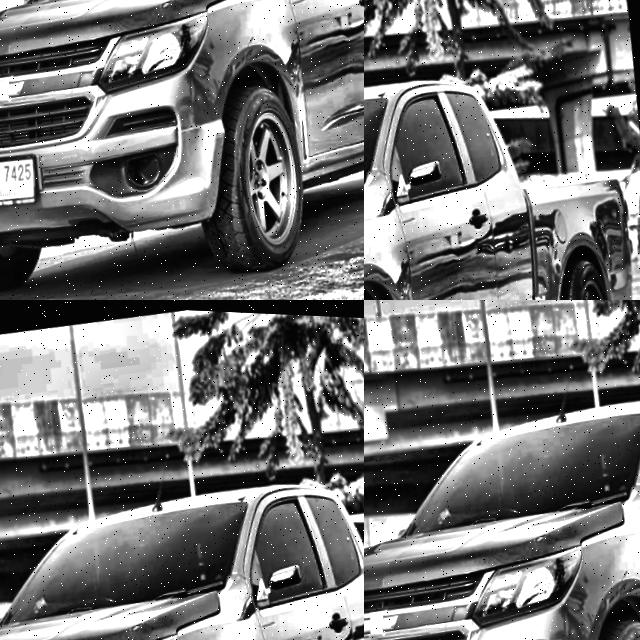license-plate: (0, 327, 28, 459)
